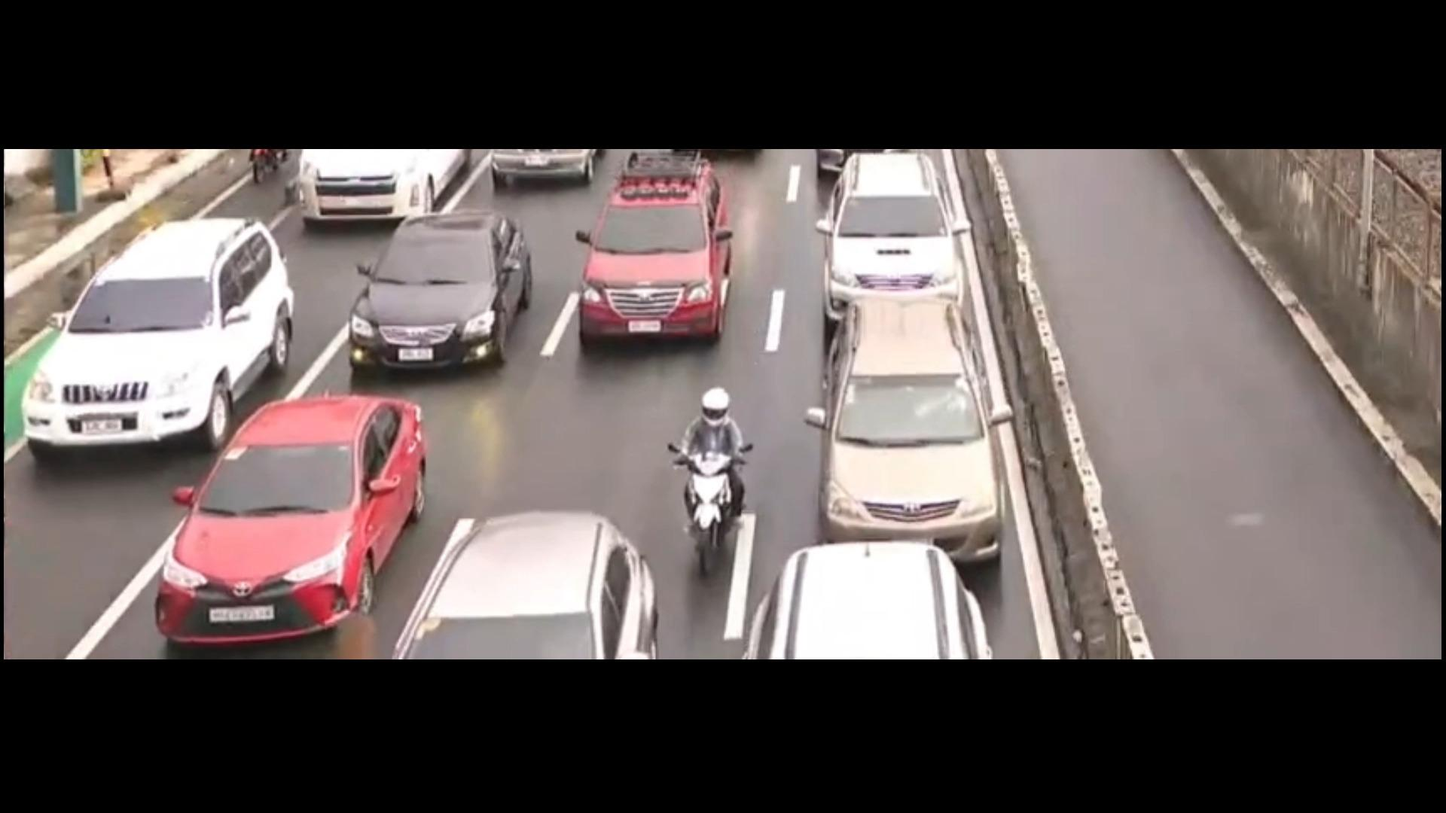Motorcycle: (647, 392, 780, 571)
SUV: (0, 217, 294, 474), (817, 285, 1002, 557), (385, 510, 680, 658), (560, 153, 748, 365), (802, 143, 998, 310), (737, 525, 976, 657)
Sedan: (135, 369, 458, 654), (350, 194, 539, 393)
Van: (274, 140, 488, 247)
